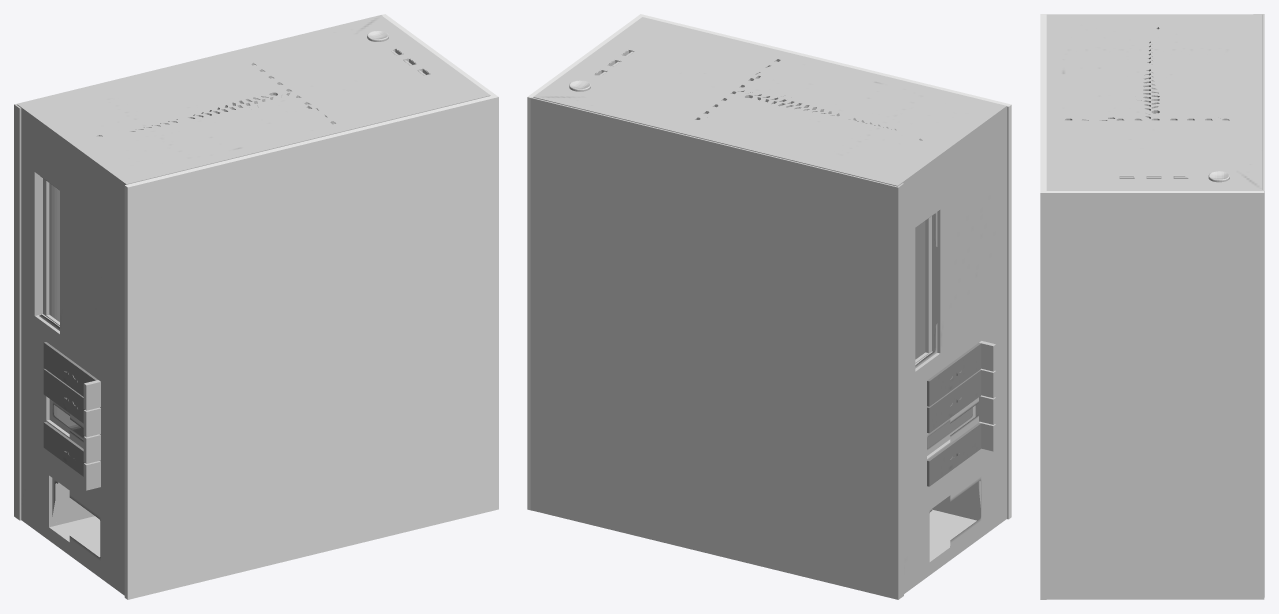
File: PC_CASE.fbx
The picture shows the model from 3 angles, left to right: view 1: azimuth 30°, elevation 25°; view 2: azimuth 150°, elevation 25°; view 3: azimuth 270°, elevation 25°; orthographic projection.
Visible parts, largest first — view 1: SIDE_GLASS, PC_CASE, BACK_PANEL; view 2: BACK_PANEL, PC_CASE, SIDE_GLASS, FRONT_GLASS; view 3: FRONT_GLASS, PC_CASE, SIDE_GLASS, BACK_PANEL.
Part boxes in pixels (box(x1,y1,x2,y2)): SIDE_GLASS: box(124, 94, 498, 599); PC_CASE: box(17, 15, 490, 595); BACK_PANEL: box(14, 15, 382, 520); BACK_PANEL: box(530, 97, 903, 599); PC_CASE: box(533, 17, 1006, 593); SIDE_GLASS: box(638, 14, 1011, 519); FRONT_GLASS: box(527, 16, 641, 510); FRONT_GLASS: box(1046, 190, 1264, 599); PC_CASE: box(1046, 14, 1262, 190); SIDE_GLASS: box(1040, 14, 1046, 599); BACK_PANEL: box(1253, 14, 1264, 597).
Bounding box in the file's own units: 712 × 737 × 365.
